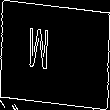M_S: (44, 28, 66, 82)
